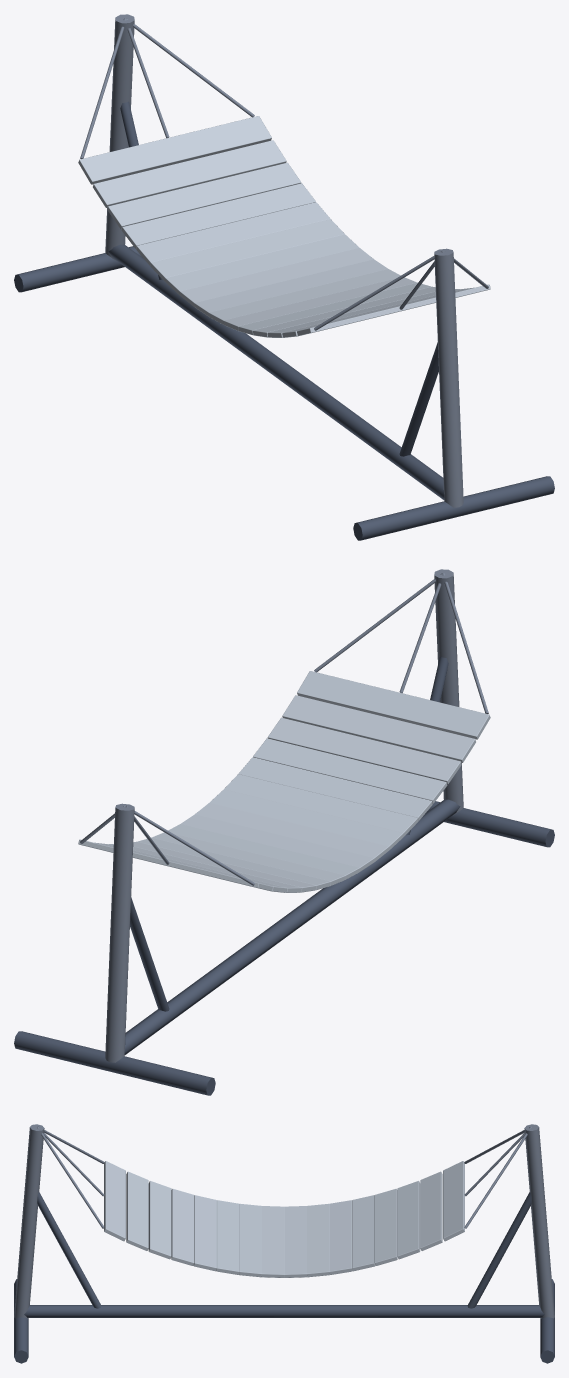
The model's file is 支架吊床-lite.glb.
3 views of the same model, one above another, from view 1: azimuth 30°, elevation 25°; view 2: azimuth 150°, elevation 25°; view 3: azimuth 270°, elevation 25° (orthographic). The views are drawn at different scales.
Parts seen in each view (by area): view 1: garden-hammock; view 2: garden-hammock; view 3: garden-hammock.
Boxes of the visible parts, x1,y1,x2,y2 form: garden-hammock: (14,14,554,540); garden-hammock: (14,569,554,1095); garden-hammock: (14,1124,554,1363).
Bounding box in the file's own units: 1.05 × 1.35 × 3.3.
